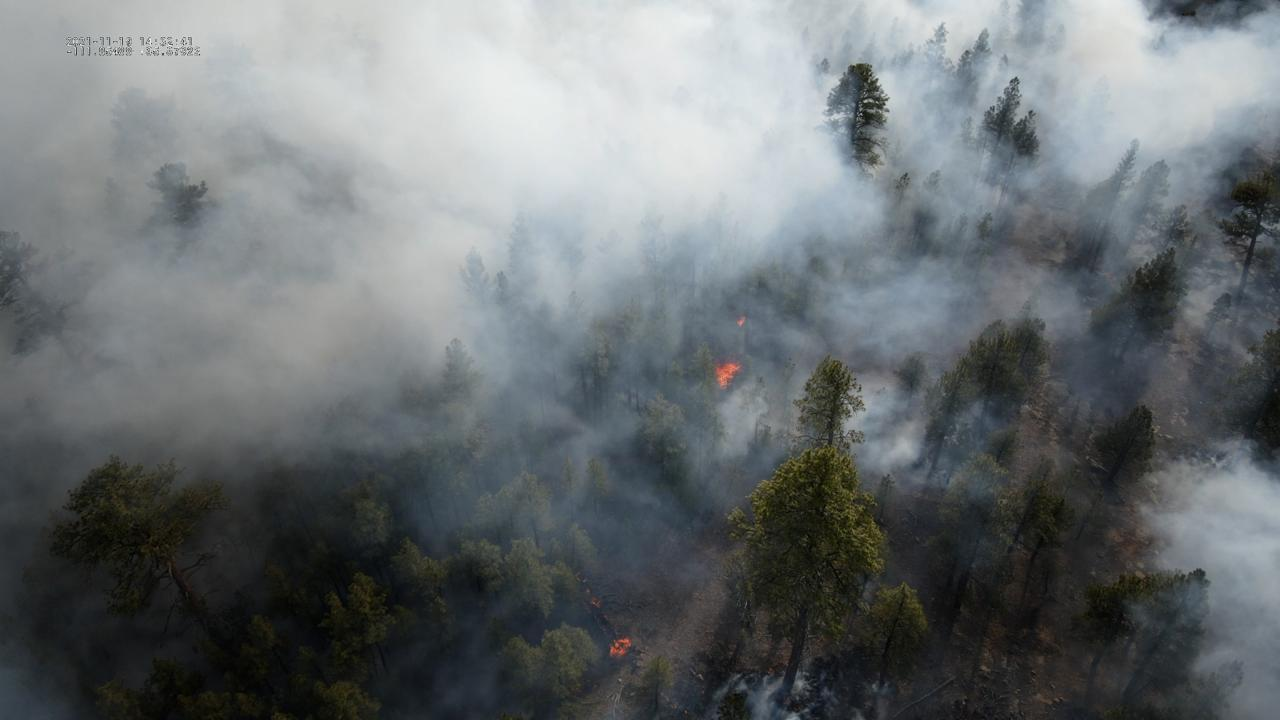fire: (712, 360, 743, 391), (605, 636, 632, 660), (735, 316, 747, 329)
smoke: (0, 0, 1280, 720)
